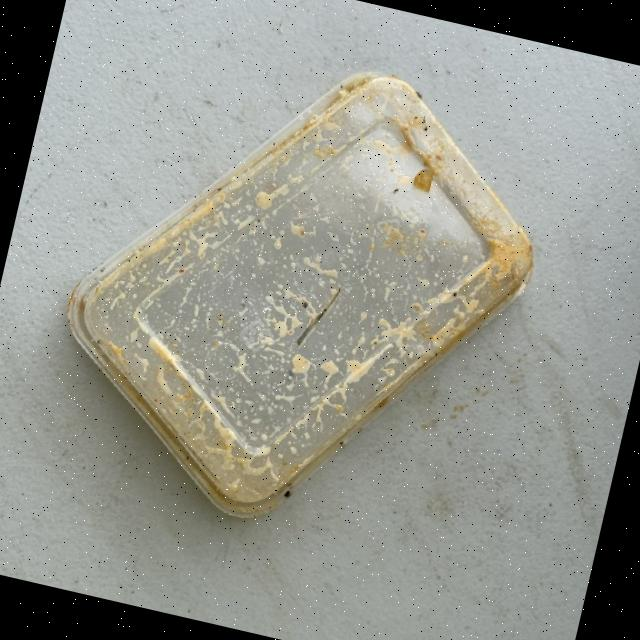plastic: (29, 13, 568, 570)
